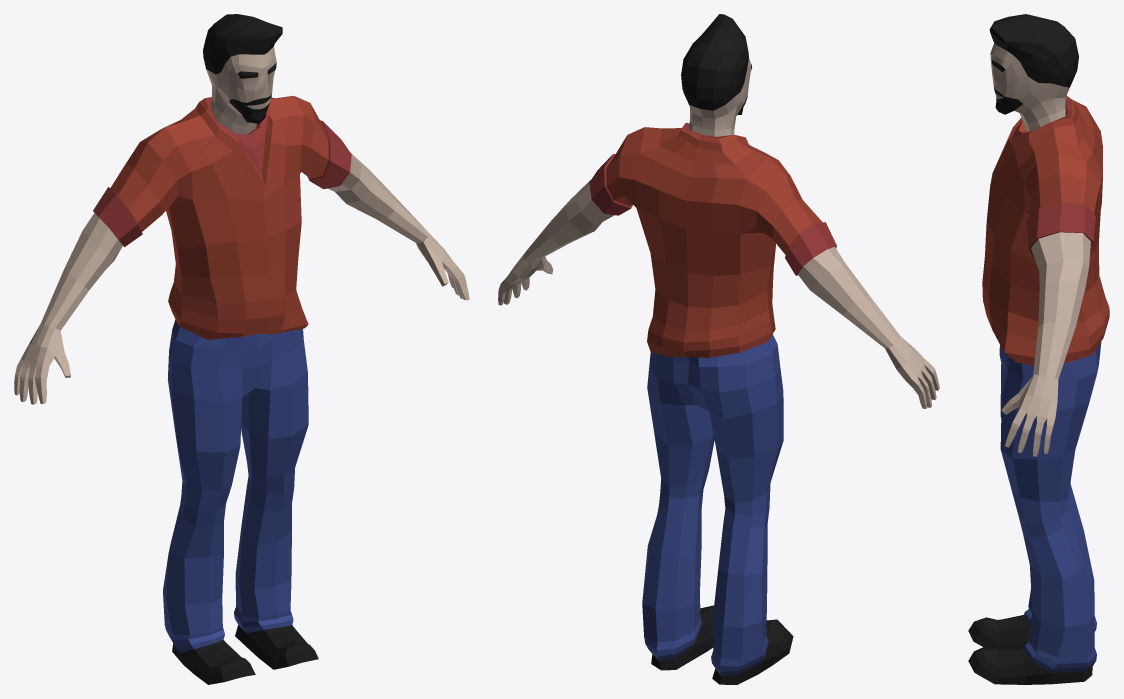
Rendered from man.fbx.
3 views of the same model, side by side, from view 1: azimuth 30°, elevation 25°; view 2: azimuth 150°, elevation 25°; view 3: azimuth 270°, elevation 25° (orthographic). The views are drawn at different scales.
Visible parts, largest first — view 1: man; view 2: man; view 3: man.
Part boxes in pixels (box(x1,y1,x2,y2)): man: box(14, 14, 469, 684); man: box(498, 14, 939, 684); man: box(968, 14, 1109, 684).
Size of the model in its own units: 134 by 188 by 37.36.
